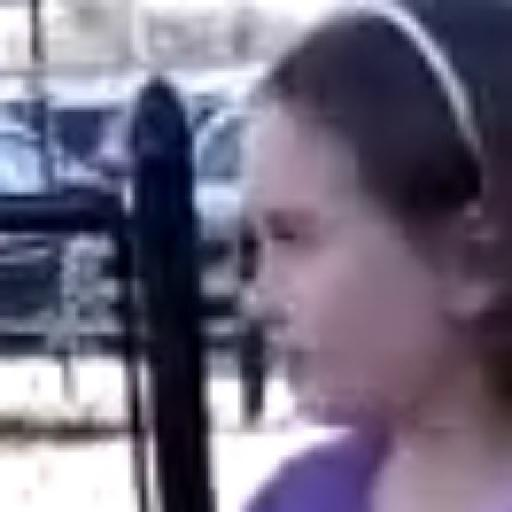Autism: (223, 29, 512, 453)
